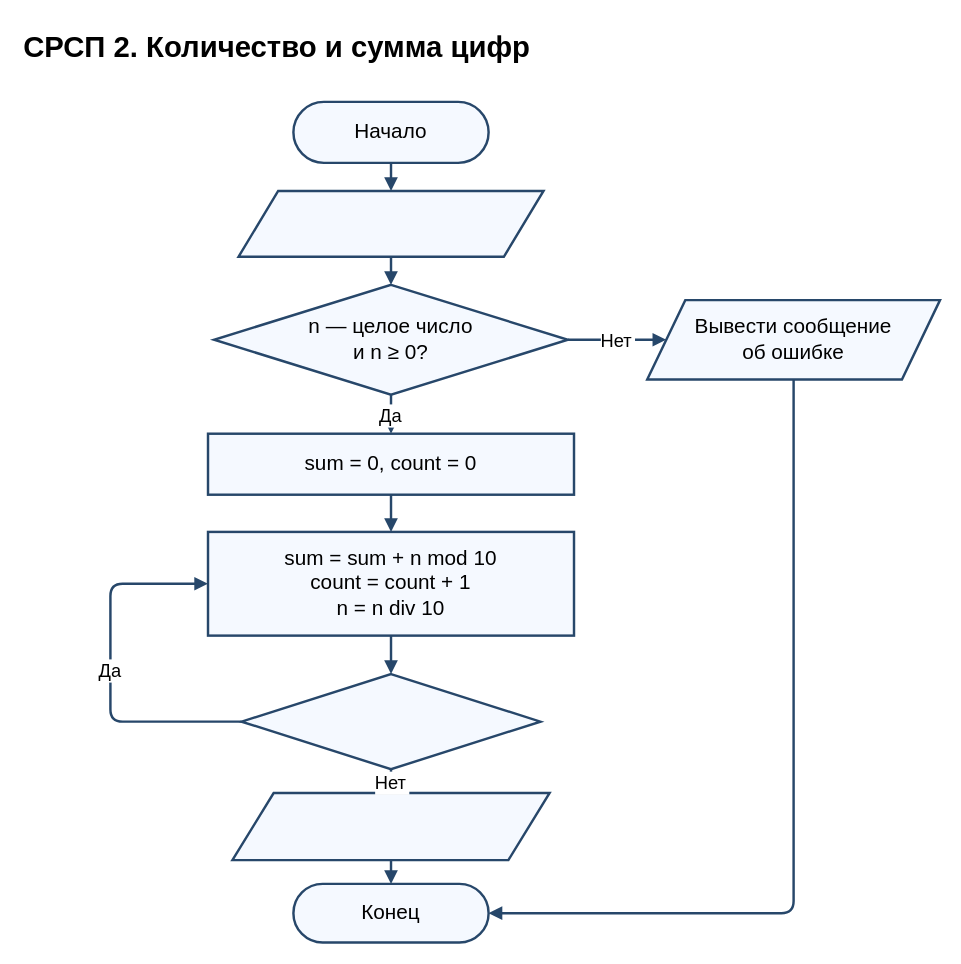
The diagram is 961 pixels wide and 964 high, and some of its shapes have lost their labels. The shapes that lost their labels are listed below. From the top down, each one's centre as x and y in pixels, then its label:
At (390,223): "Ввести n".
At (390,721): "n > 0?".
At (390,826): "Вывести count, sum".
